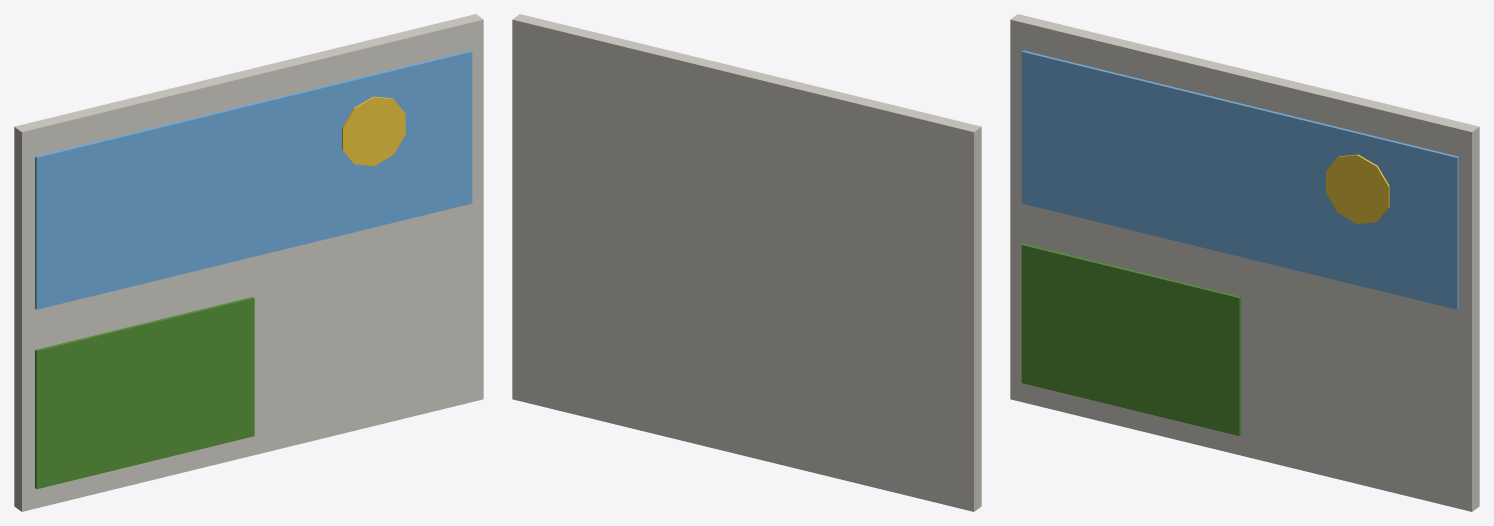
File: forgery.glb
The picture shows the model from 3 angles, left to right: view 1: azimuth 30°, elevation 25°; view 2: azimuth 150°, elevation 25°; view 3: azimuth 330°, elevation 25°; orthographic projection.
Visible parts, largest first — view 1: canvas_canvas_white, sky_sky_blue, field_field_green, sun_sun_yellow; view 2: canvas_canvas_white; view 3: canvas_canvas_white, sky_sky_blue, field_field_green, sun_sun_yellow.
Part boxes in pixels (box(x1,y1,x2,y2)): canvas_canvas_white: box(14, 14, 483, 511); sky_sky_blue: box(35, 50, 472, 309); field_field_green: box(35, 297, 254, 488); sun_sun_yellow: box(342, 96, 405, 166); canvas_canvas_white: box(512, 14, 981, 511); canvas_canvas_white: box(1010, 14, 1479, 511); sky_sky_blue: box(1021, 50, 1458, 309); field_field_green: box(1021, 243, 1241, 435); sun_sun_yellow: box(1326, 154, 1389, 224).
Bounding box in the file's own units: 0.7 × 0.55 × 0.027.
